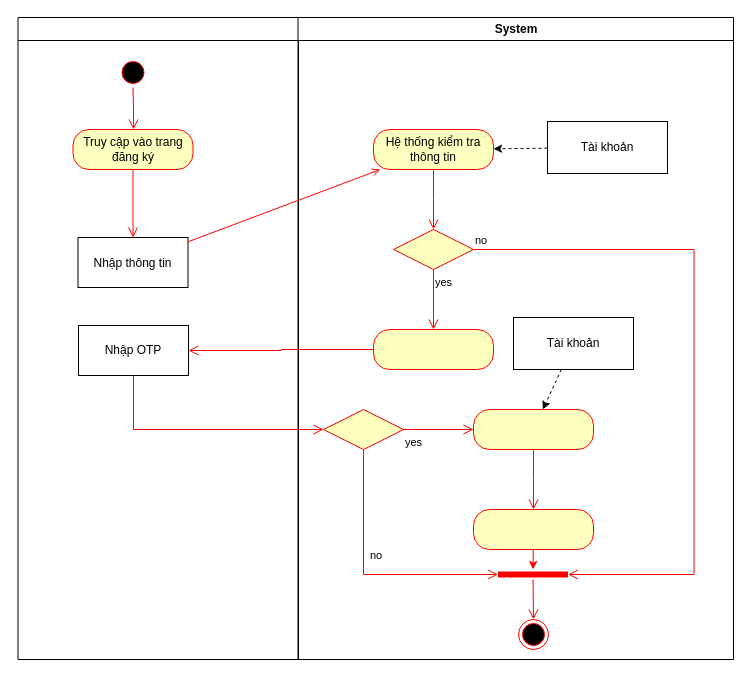
Some shapes in this 751 by 677 pixel diagram are drawn without their labels. Here are the shapes that lost their labels. From the top down, the box of each, then its label:
(17, 16, 298, 660): User
(372, 328, 494, 370): Hệ thống gửi OTP
(472, 408, 594, 450): Tài khoản được kích hoạt
(472, 508, 594, 550): Chuyển về trang đăng nhập
